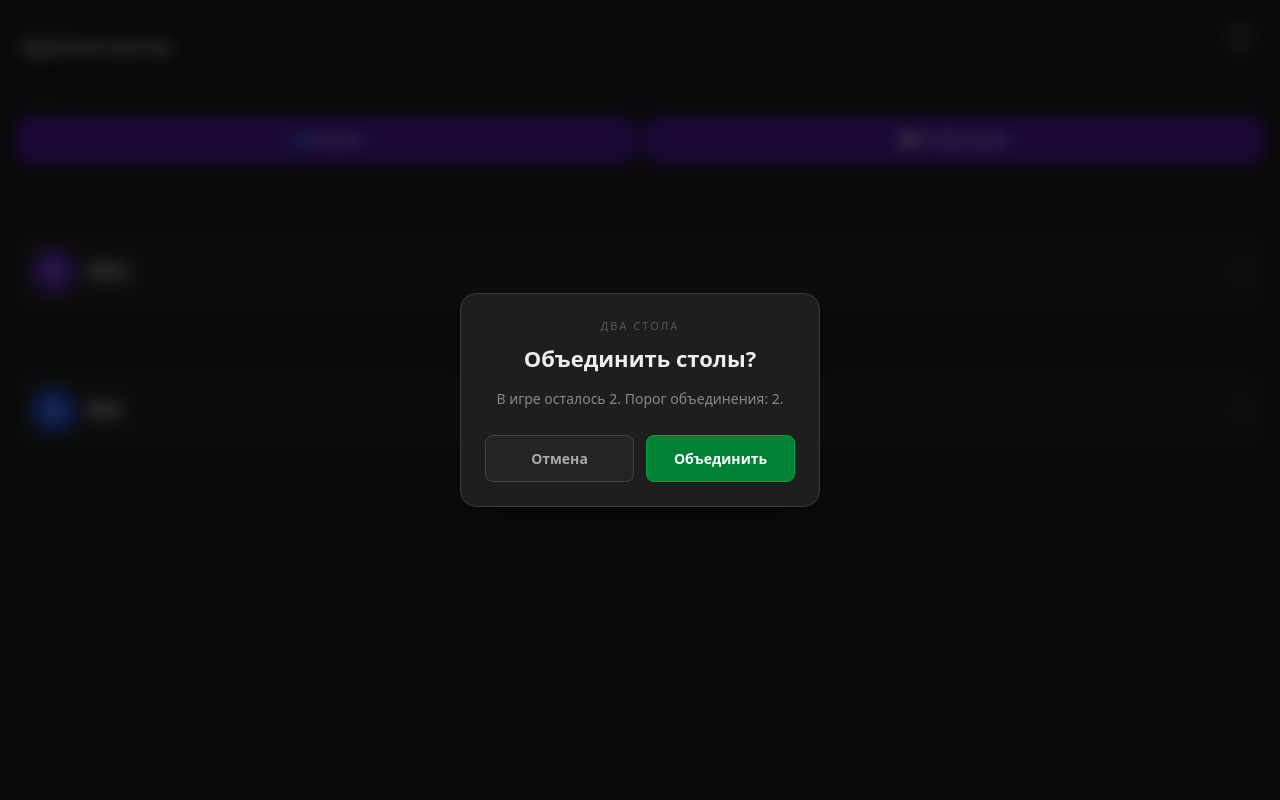
it: MobileAdminPanel merge dialog › cancel closes dialog and resumes timer
The width and height of the screenshot is (1280, 800).
Click the button "Отмена": (560, 459) [485, 435, 634, 482]
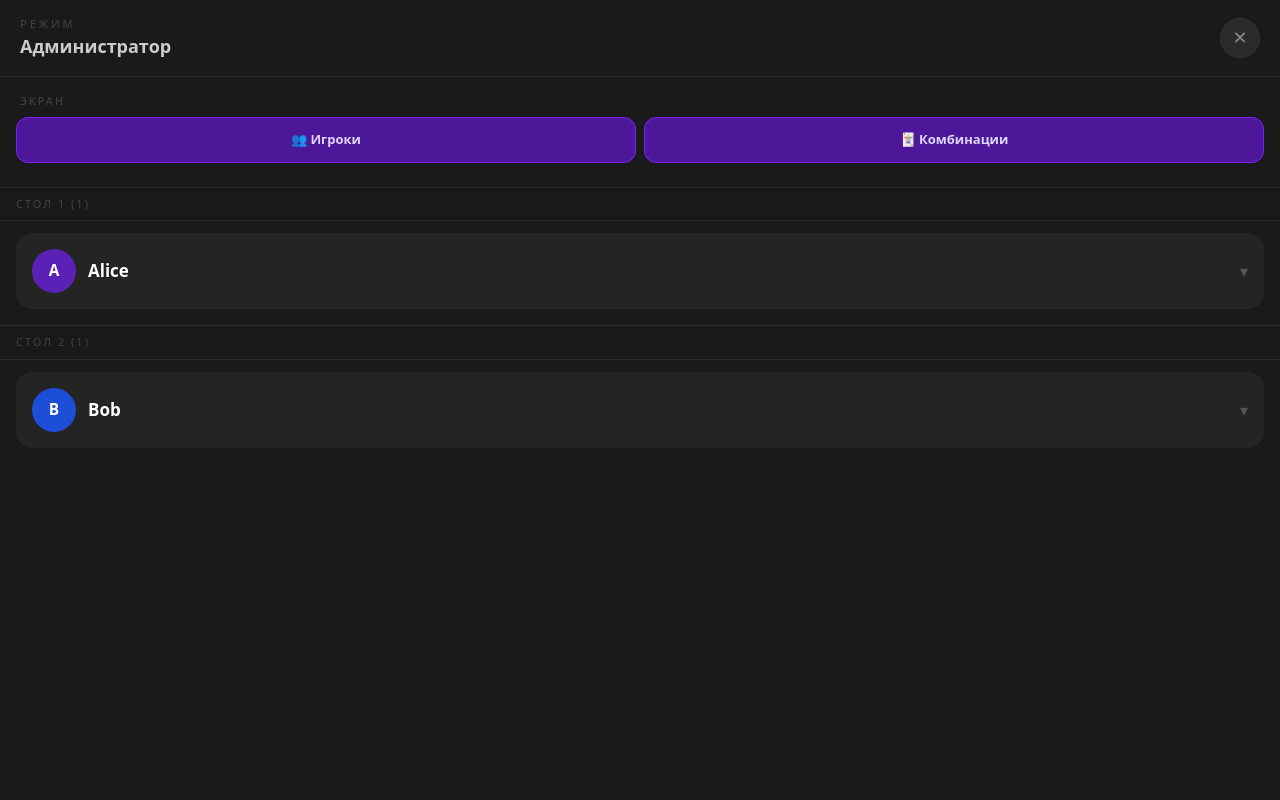
Now the heading "Объединить столы?" is gone
